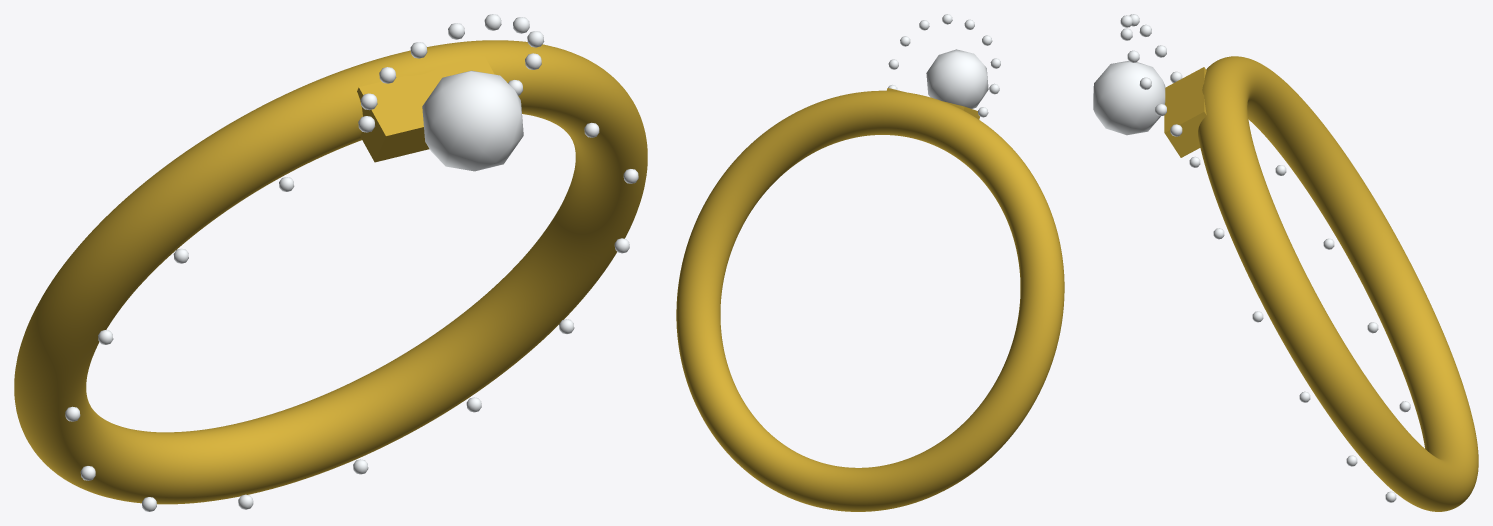
The model's file is lumiere-halo.glb.
3 views of the same model, side by side, from view 1: azimuth 30°, elevation 25°; view 2: azimuth 150°, elevation 25°; view 3: azimuth 270°, elevation 25° (orthographic). The views are drawn at different scales.
Parts seen in each view (by area): view 1: gold_band, hero_gemstone, gold_setting; view 2: gold_band, hero_gemstone; view 3: gold_band, hero_gemstone, gold_setting.
Part boxes in pixels (left/top/right/bottom): gold_band: left=14, top=40, right=647, bottom=504; hero_gemstone: left=422, top=70, right=523, bottom=171; gold_setting: left=357, top=56, right=494, bottom=162; gold_band: left=676, top=90, right=1064, bottom=511; hero_gemstone: left=926, top=49, right=988, bottom=108; gold_band: left=1198, top=56, right=1478, bottom=511; hero_gemstone: left=1093, top=61, right=1165, bottom=135; gold_setting: left=1164, top=67, right=1206, bottom=157.
Bounding box in the file's own units: 2.2 × 2.21 × 1.67.
